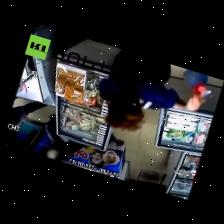person: (100, 50, 200, 130), (2, 101, 47, 144)
